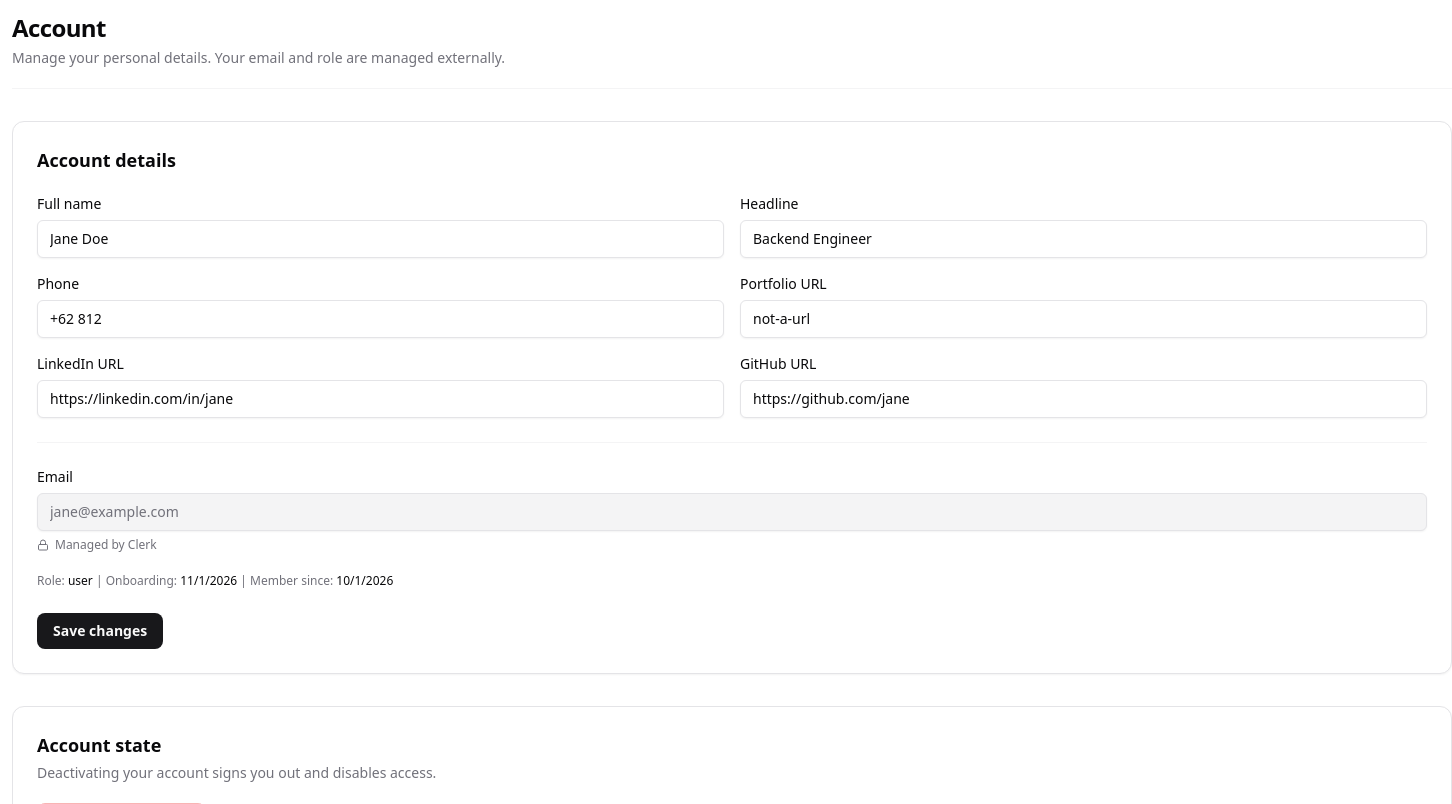
AccountForm › shows a field error and skips save for an invalid URL
The image size is (1452, 804).
Click the button "Save changes" at [100, 631], box [37,613,163,649]
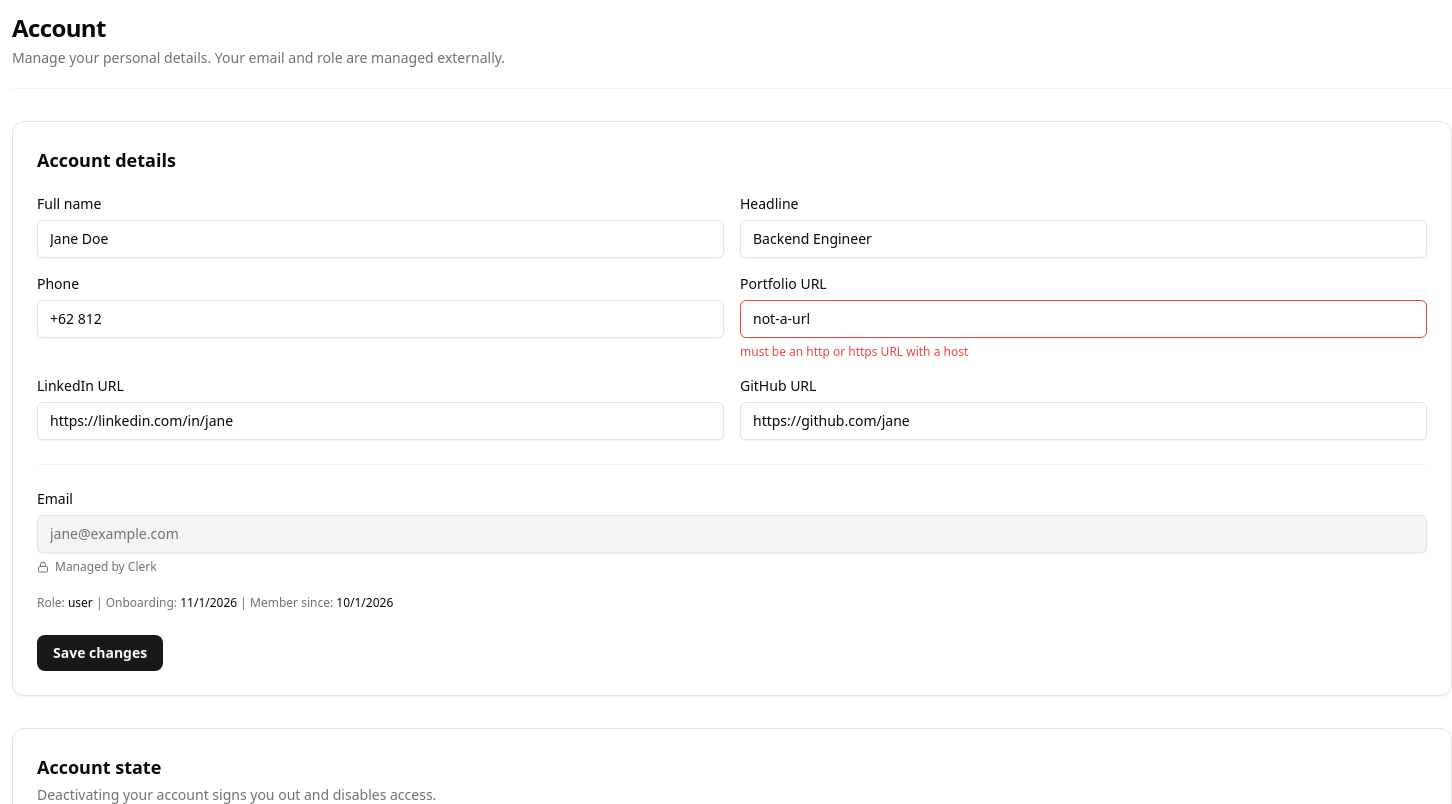
Check: the text "must be an http or https URL with a host" is shown, box [740,343,968,360]
